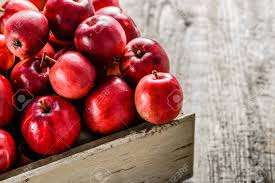apple: (22, 94, 78, 154), (79, 82, 133, 134), (42, 2, 103, 44), (72, 13, 124, 62), (136, 74, 184, 127), (5, 14, 55, 58), (119, 38, 168, 78), (51, 54, 93, 99), (13, 56, 52, 96)
